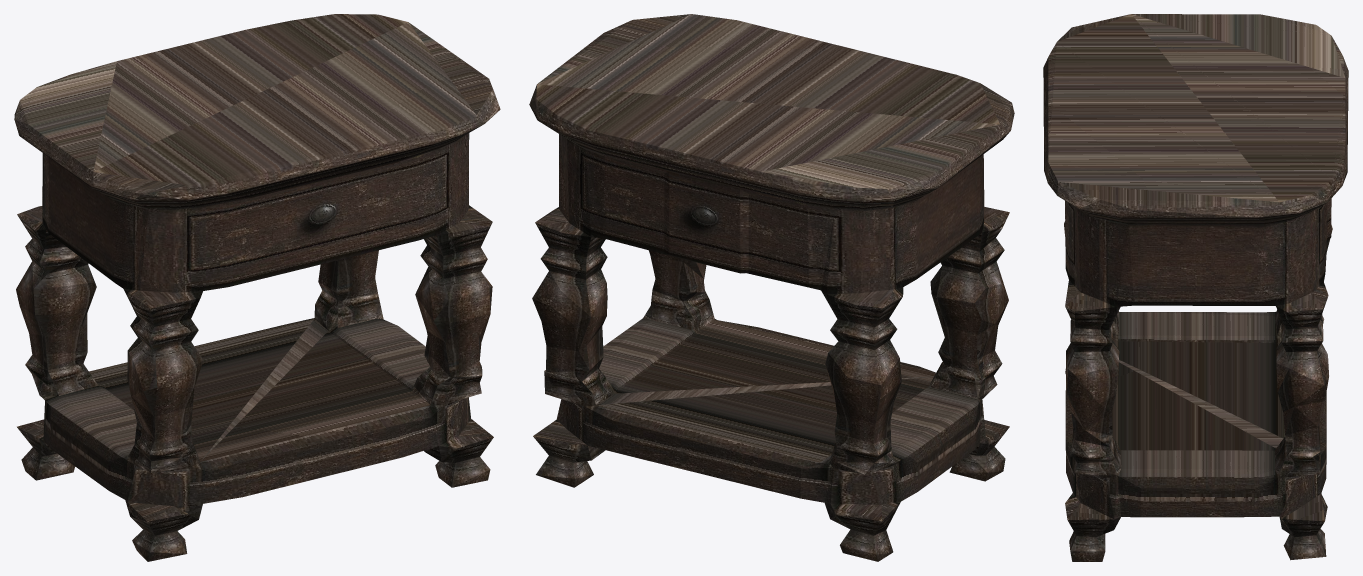
Rendered from table_high.glb.
3 views of the same model, side by side, from view 1: azimuth 30°, elevation 25°; view 2: azimuth 150°, elevation 25°; view 3: azimuth 270°, elevation 25° (orthographic).
Visible parts, largest first — view 1: table_high; view 2: table_high; view 3: table_high.
Boxes of the visible parts, left/top/right/bottom form: table_high: left=14, top=14, right=500, bottom=561; table_high: left=529, top=14, right=1014, bottom=561; table_high: left=1043, top=14, right=1348, bottom=561.
Size of the model in its own units: 0.8929 by 0.7987 by 0.5895.
Materials: 1 (1 with a texture image).
